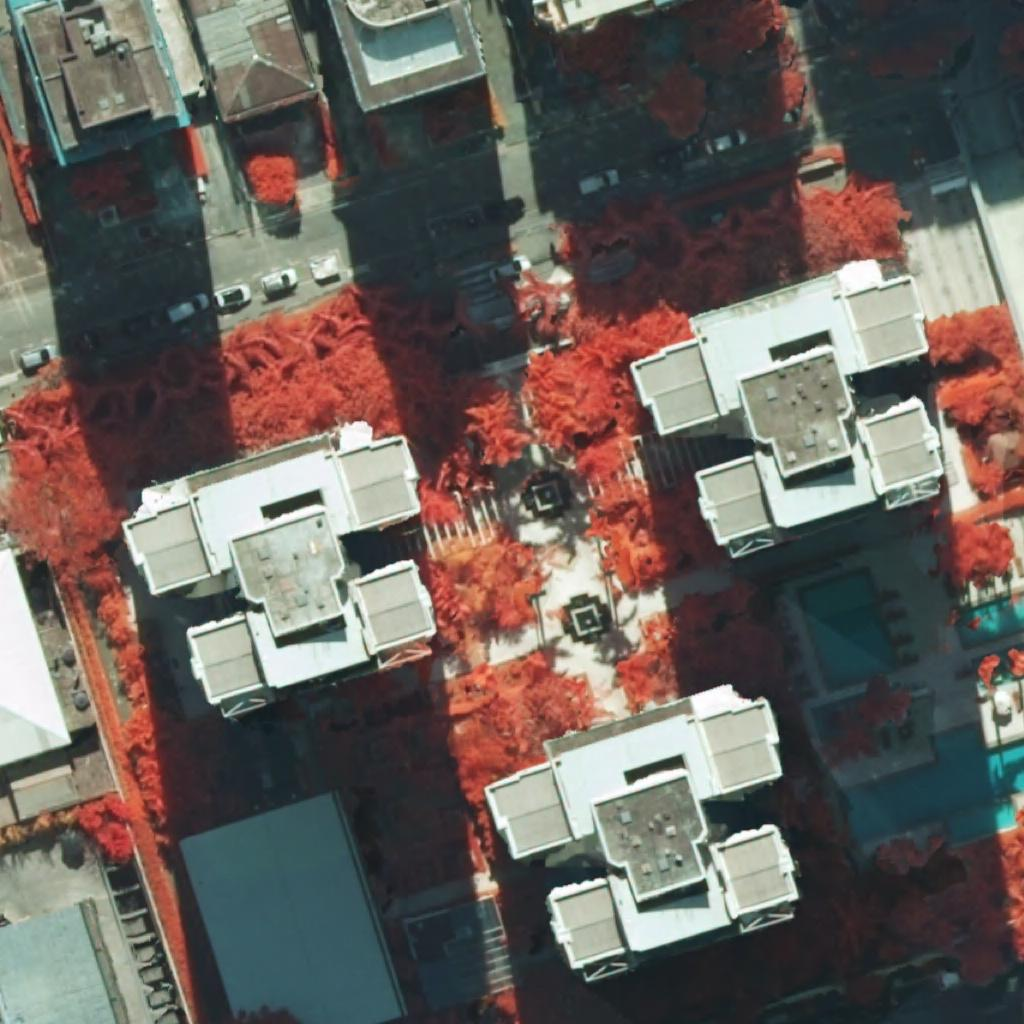pool: (838, 723, 1024, 844), (797, 568, 899, 692), (956, 592, 1024, 648)
